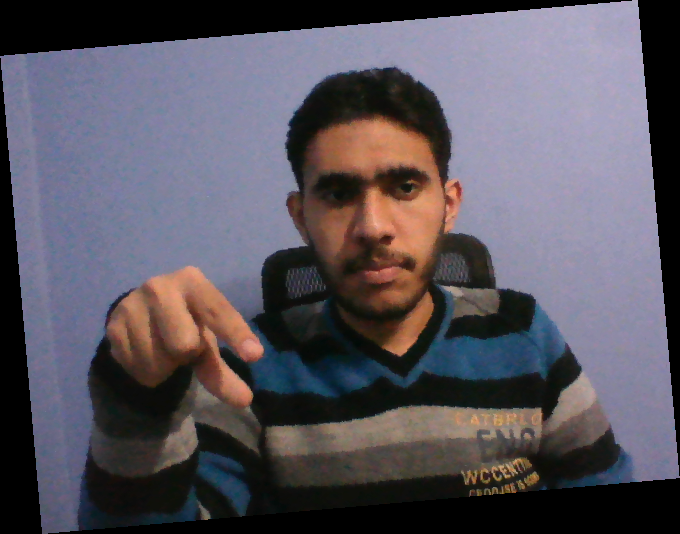Q: (110, 261, 272, 419)
